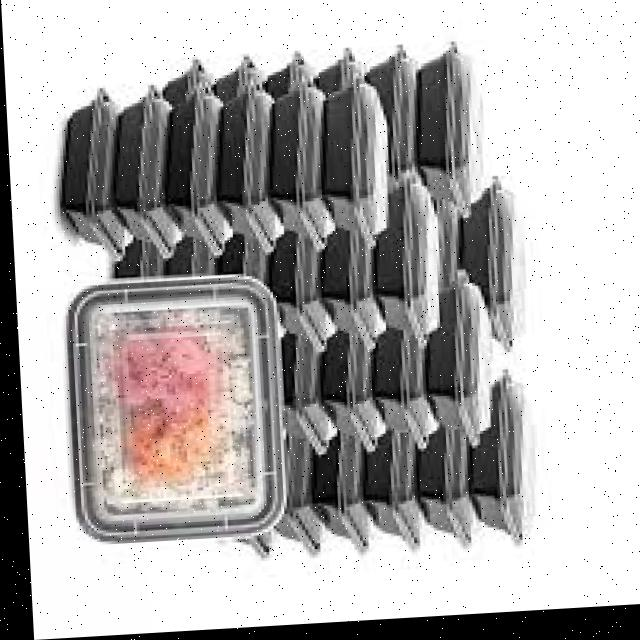disposable: (56, 269, 285, 565), (406, 36, 499, 210), (319, 72, 408, 233)
